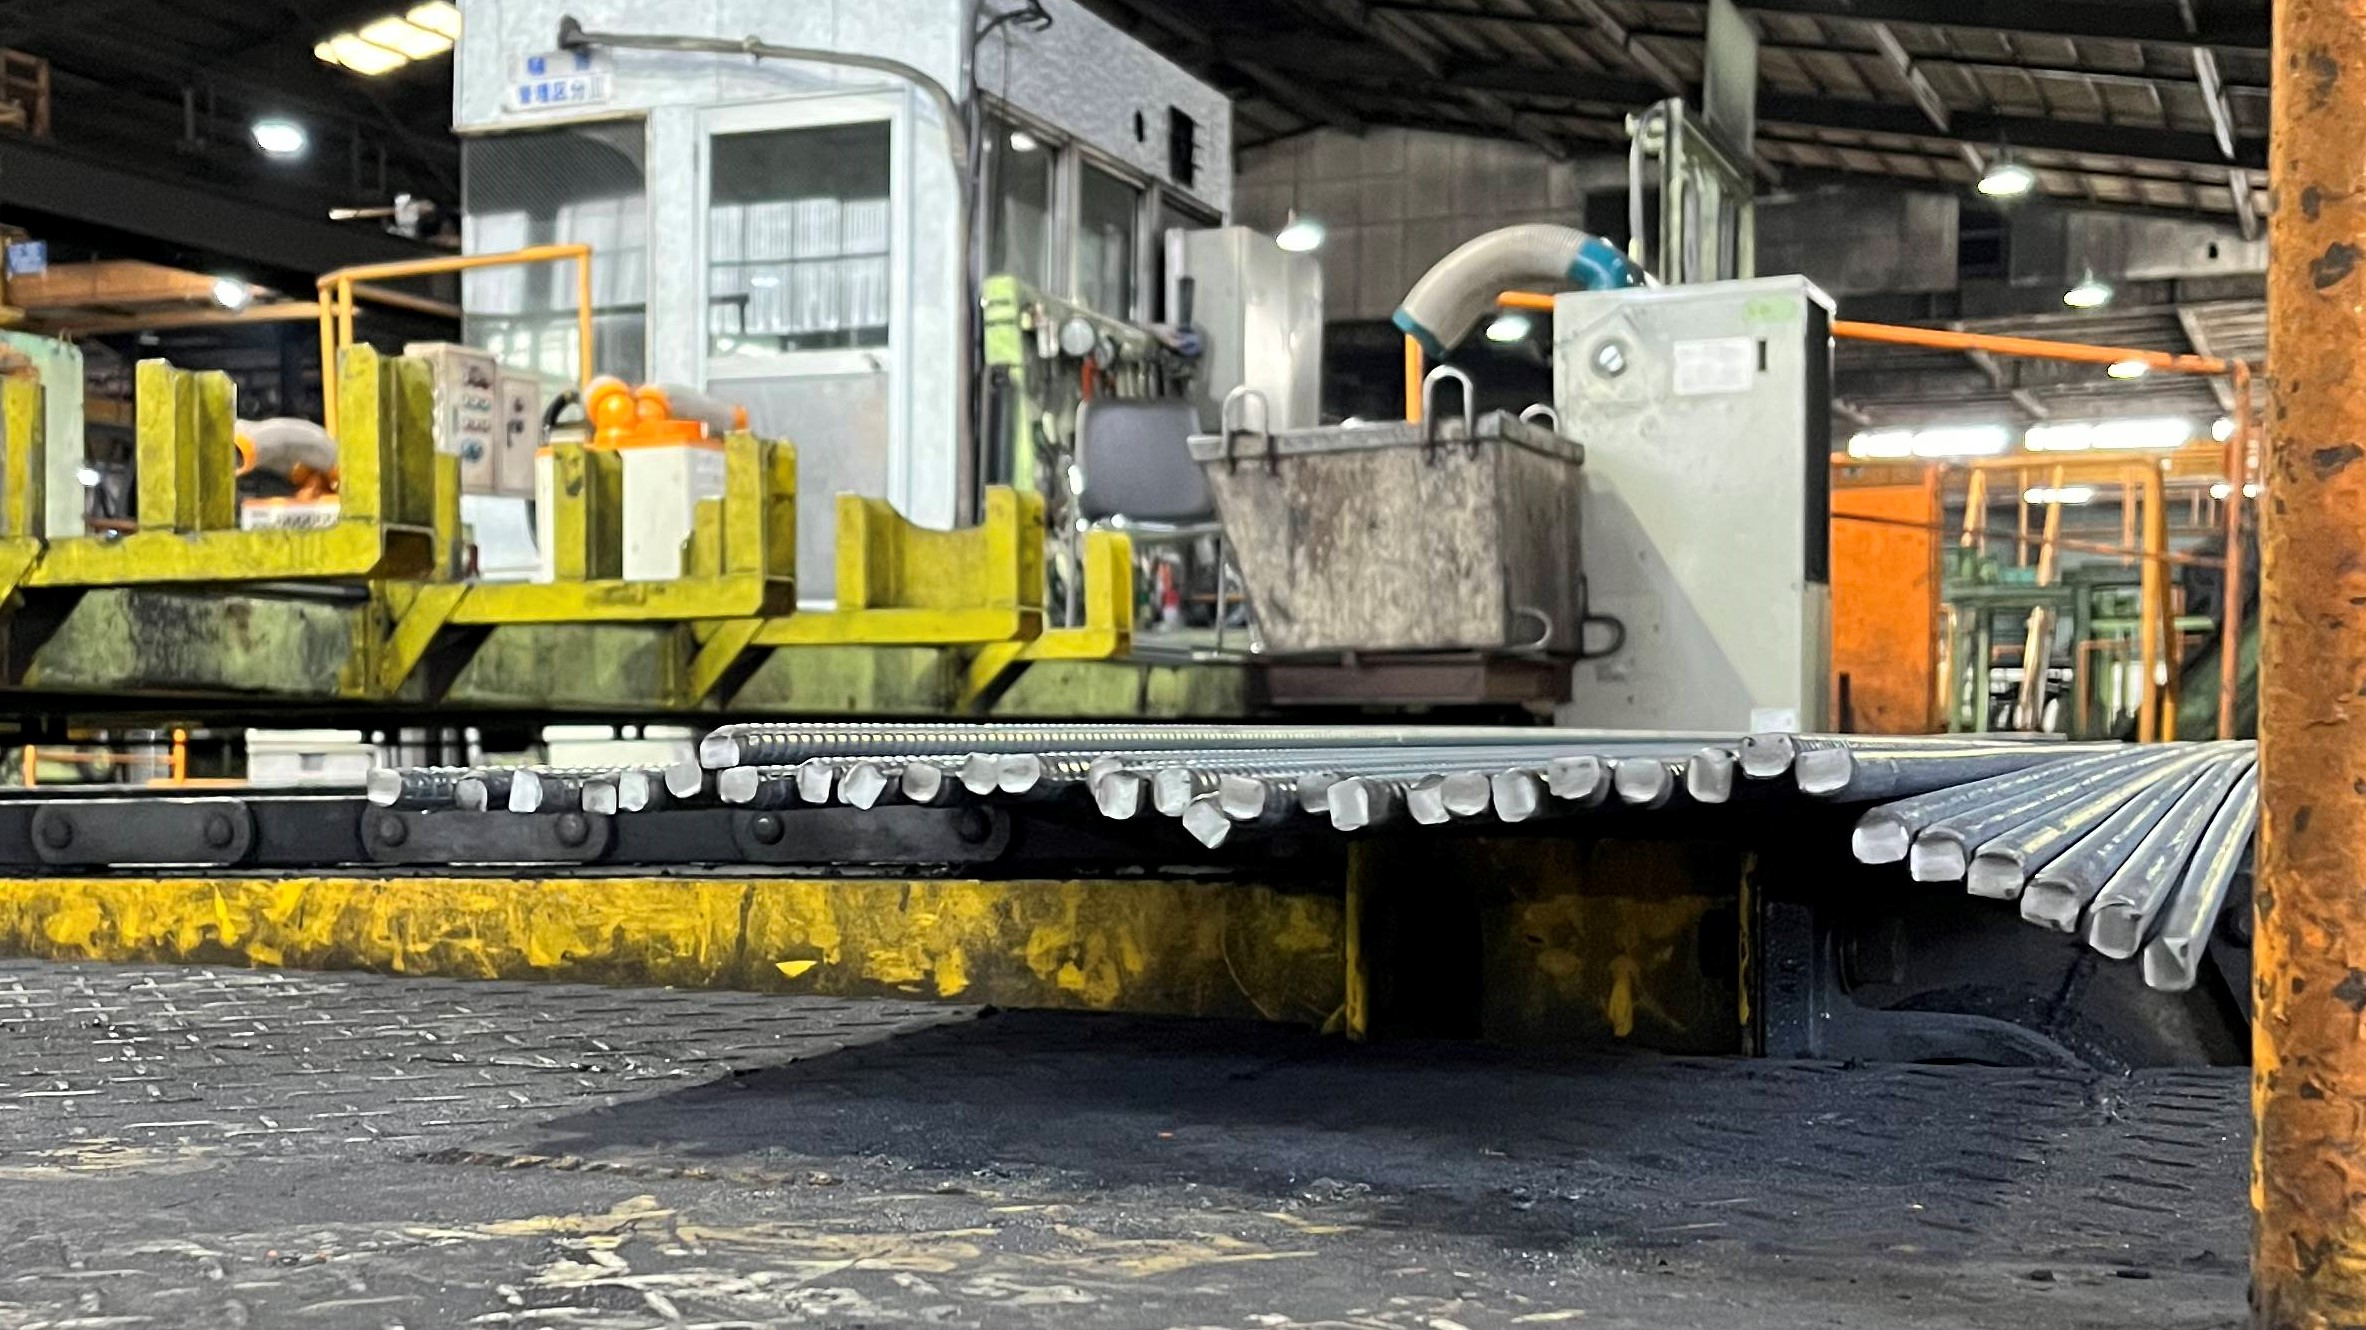rod: (2018, 875, 2080, 935), (2078, 902, 2143, 959), (1849, 811, 1913, 865), (2138, 938, 2199, 992), (1965, 849, 2023, 902), (1794, 748, 1856, 797), (1909, 832, 1966, 884), (1735, 732, 1796, 780), (1488, 766, 1537, 823), (1683, 746, 1732, 803), (1180, 798, 1232, 850), (1614, 754, 1666, 806), (1545, 754, 1602, 802), (1323, 777, 1370, 832), (1438, 771, 1492, 816), (1406, 772, 1449, 828), (1217, 772, 1266, 821), (842, 759, 887, 811), (1095, 771, 1141, 821), (1152, 766, 1194, 819), (899, 759, 944, 806), (998, 750, 1042, 797), (1293, 769, 1337, 815), (955, 751, 998, 797), (362, 764, 403, 810), (505, 767, 544, 815), (663, 758, 704, 800), (793, 763, 834, 805), (717, 766, 760, 805), (1085, 753, 1124, 797), (695, 733, 741, 771), (617, 771, 653, 815), (578, 777, 617, 816), (450, 776, 489, 813)
